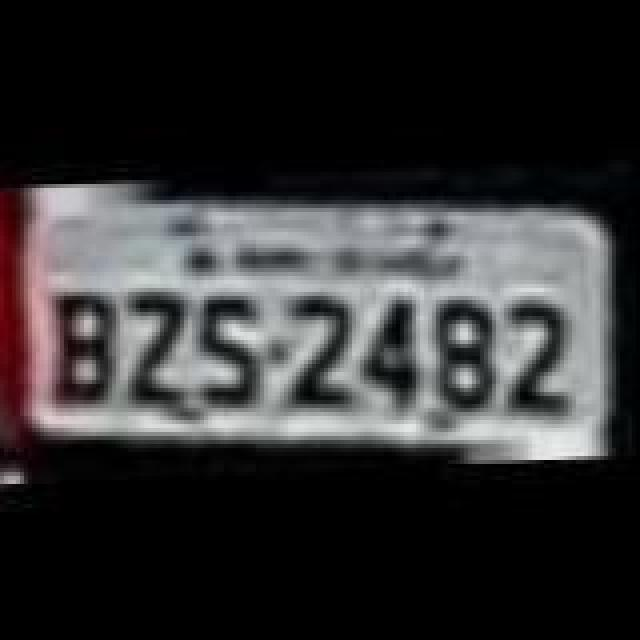2: (500, 294, 580, 426), (284, 290, 364, 418)
4: (362, 288, 430, 412)
8: (432, 292, 504, 416)
B: (46, 282, 130, 414)
S: (194, 282, 270, 410)
Z: (116, 282, 196, 414)
